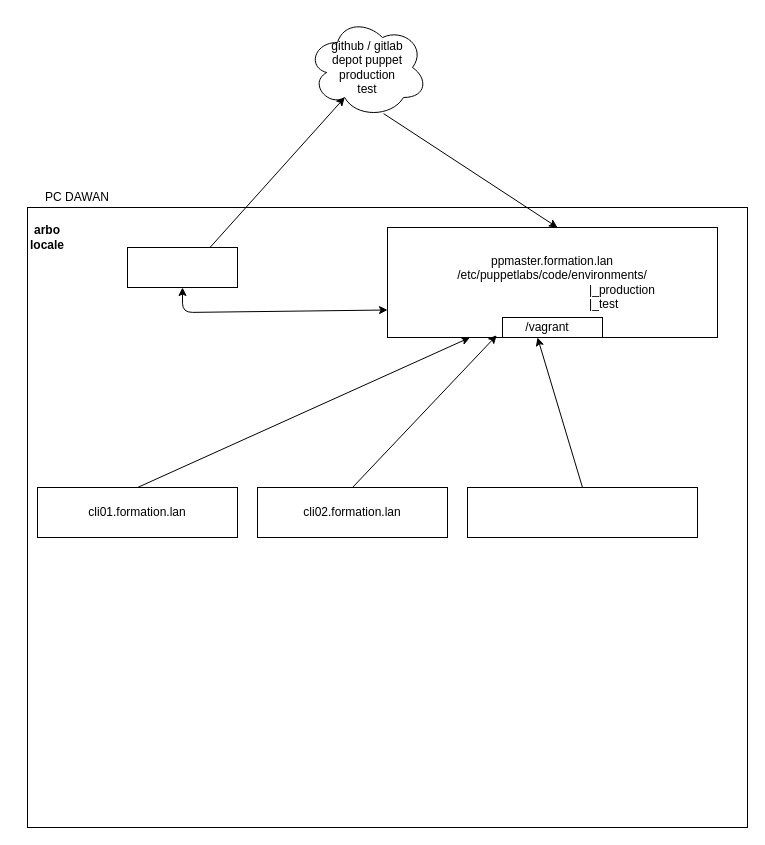
This 765x845 diagram has some shape labels left out. Each missing label, with the centre of its shape:
/home/stagiaire/formation_puppet |_Vagrantfile: (x=182, y=267)
cli03formation.lan: (x=582, y=512)
